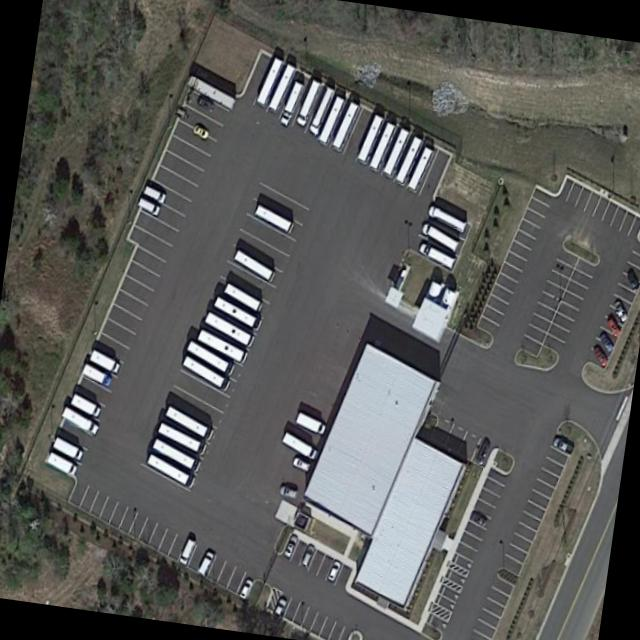large-vehicle: (202, 310, 254, 348), (195, 327, 247, 364), (185, 338, 234, 376), (180, 354, 230, 391), (211, 295, 261, 332), (184, 73, 235, 109), (145, 452, 194, 488), (151, 436, 200, 472), (164, 404, 212, 440), (156, 421, 206, 455), (330, 100, 360, 153), (393, 134, 423, 187), (355, 113, 384, 166), (266, 62, 296, 113), (367, 121, 396, 173), (317, 95, 346, 146), (306, 86, 335, 136), (232, 248, 274, 282), (382, 127, 410, 177), (255, 56, 283, 105), (294, 78, 320, 127), (407, 146, 434, 192), (419, 221, 459, 252), (253, 203, 294, 233), (222, 282, 262, 312), (426, 203, 466, 233), (60, 404, 98, 435), (278, 80, 303, 126), (280, 430, 317, 460), (417, 241, 454, 269), (88, 347, 120, 374), (51, 435, 82, 462), (69, 392, 101, 418), (45, 451, 78, 476), (294, 411, 327, 436), (80, 362, 112, 387), (177, 538, 195, 567), (135, 196, 160, 216), (142, 183, 166, 203), (196, 550, 214, 576)
small-vehicle: (610, 297, 629, 325), (591, 341, 609, 369), (474, 434, 490, 465), (298, 542, 317, 568), (235, 575, 254, 601), (290, 453, 312, 475), (280, 534, 298, 560), (604, 314, 621, 341), (324, 558, 342, 583), (597, 329, 614, 355), (624, 265, 640, 292), (190, 121, 211, 141), (551, 435, 572, 455), (468, 509, 487, 529), (271, 596, 289, 617), (195, 95, 214, 114), (277, 483, 296, 497)
